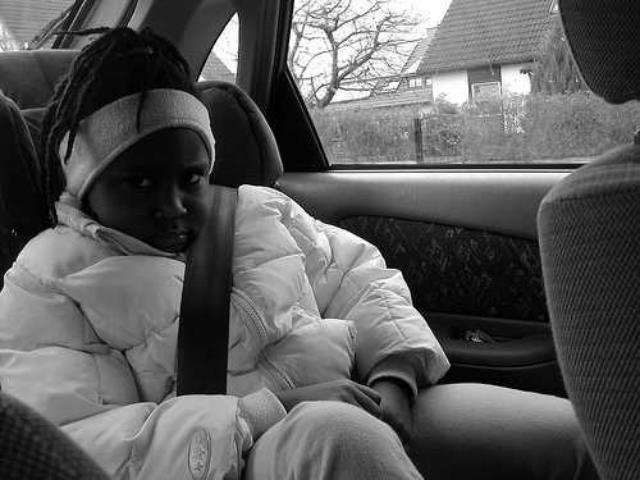Seatbelt: (168, 178, 242, 402)
